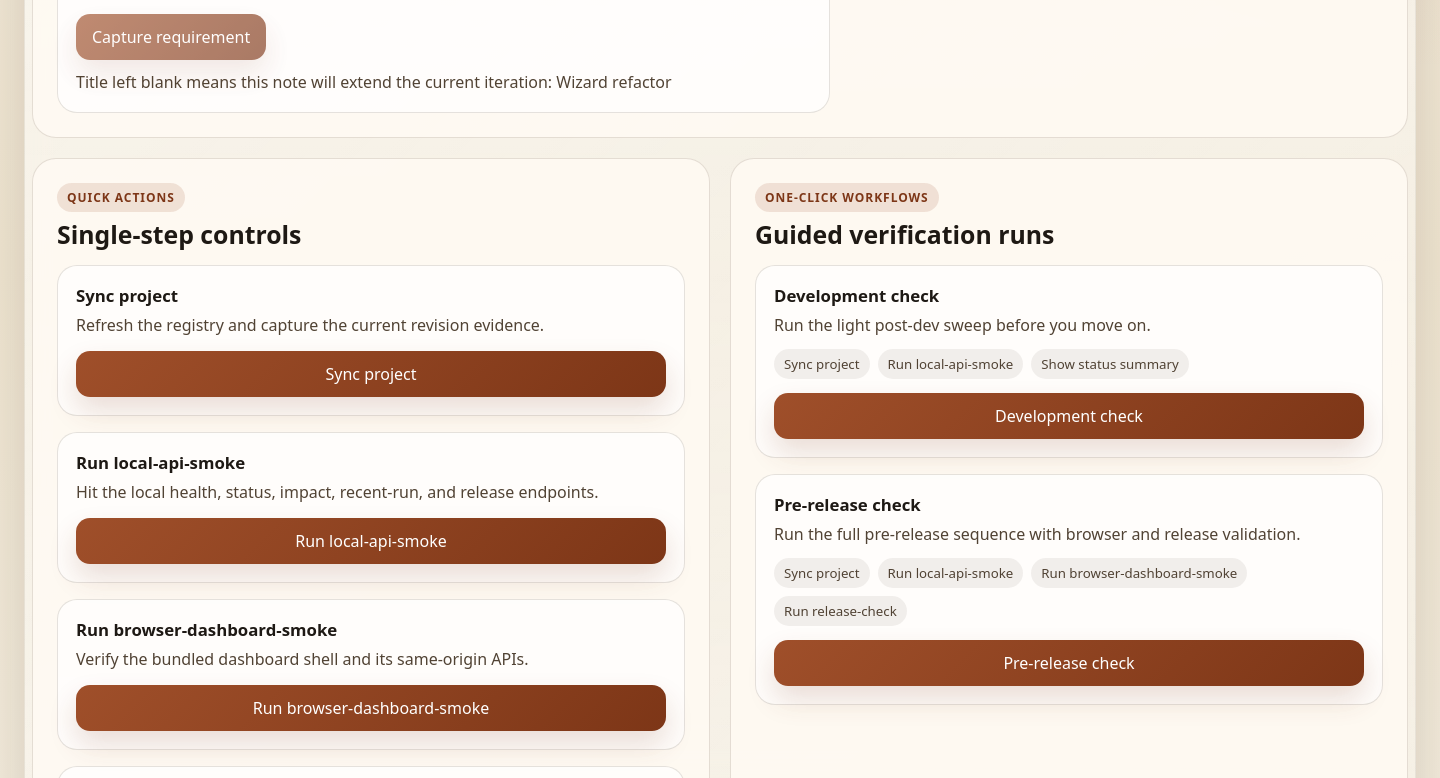
Test: Console App › runs a quick action and expands its logs
The image size is (1440, 778).
(page scrolled)
Click the button "Sync project". click: (371, 374)
box: [76,351,666,397]
(page scrolled)
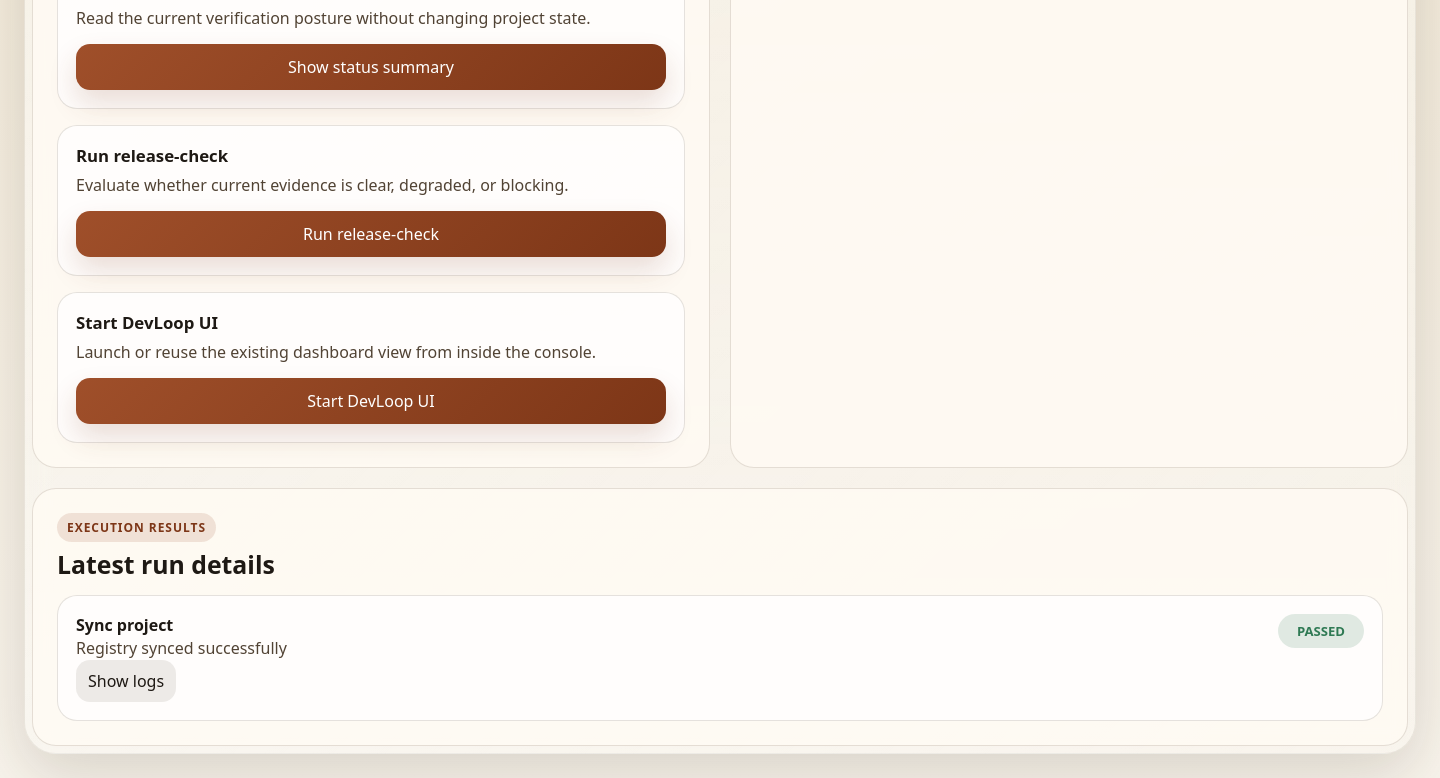
Expected: the element "Latest run details" is shown, [32,488,1408,746]
Now the text "Registry synced successfully" is shown, box [76,636,287,660]
Click the button "Show logs". click: (126, 681)
box: [76,660,176,702]
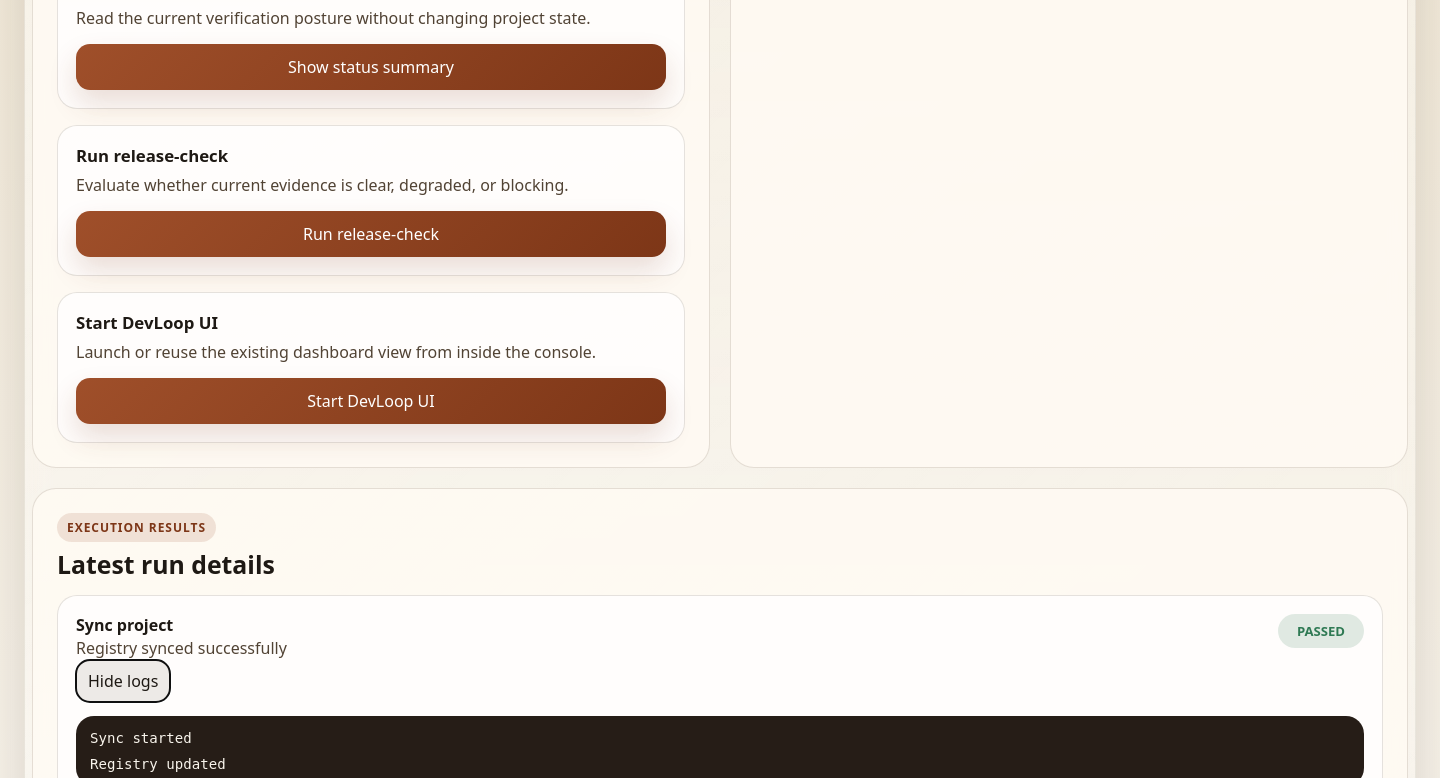
Now the text "Sync started" is shown, box [90,730,192,746]
Now the text "Registry updated" is shown, box [90,756,226,772]
